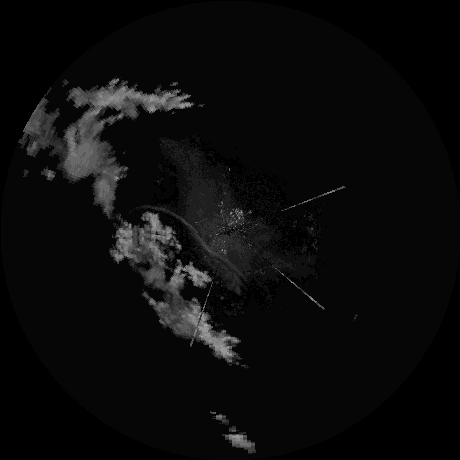frontgust: (140, 204, 241, 276)
